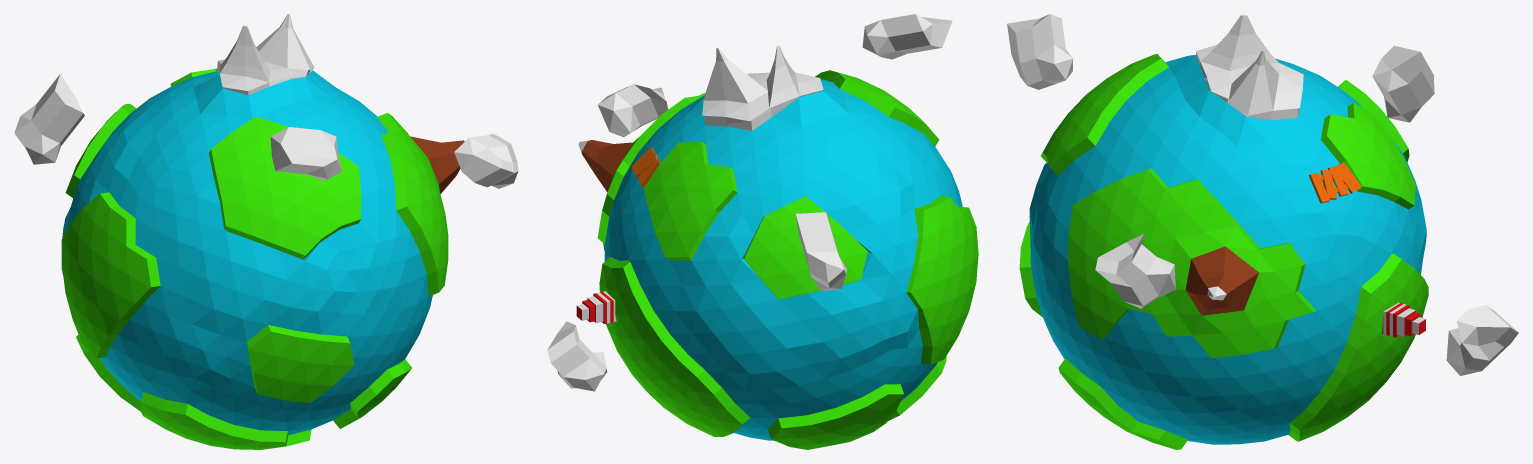
Rendered from Earth.fbx.
The picture shows the model from 3 angles, left to right: view 1: azimuth 30°, elevation 25°; view 2: azimuth 150°, elevation 25°; view 3: azimuth 270°, elevation 25°; orthographic projection. The views are drawn at different scales.
Visible parts, largest first — view 1: Icosphere, Icosphere.004, Icosphere.001, Icosphere.002; view 2: Icosphere, Icosphere.001, Icosphere.004, Icosphere.003, Icosphere.002, Cube.021, Cube.022; view 3: Icosphere, Icosphere.001, Icosphere.002, Icosphere.004, Icosphere.003, Cube.022, Cube.021.
Part boxes in pixels (<box>): Icosphere: <box>61,14,464,449</box>; Icosphere.004: <box>14,73,84,164</box>; Icosphere.001: <box>270,127,341,181</box>; Icosphere.002: <box>454,133,518,188</box>; Icosphere: <box>578,45,978,449</box>; Icosphere.001: <box>862,14,952,59</box>; Icosphere.004: <box>795,212,846,290</box>; Icosphere.003: <box>547,321,607,391</box>; Icosphere.002: <box>598,84,668,136</box>; Cube.021: <box>576,291,616,323</box>; Cube.022: <box>631,147,660,188</box>; Icosphere: <box>1019,14,1428,449</box>; Icosphere.001: <box>1007,14,1072,89</box>; Icosphere.002: <box>1095,234,1175,308</box>; Icosphere.004: <box>1372,45,1434,122</box>; Icosphere.003: <box>1446,305,1518,375</box>; Cube.022: <box>1309,162,1361,203</box>; Cube.021: <box>1382,302,1425,337</box>.
Size of the model in its own units: 244 by 236 by 260.
